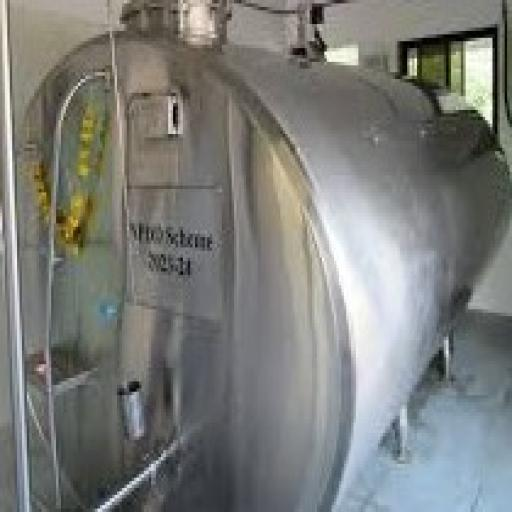silo: (2, 0, 510, 509)
